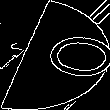O_W: (8, 27, 102, 83)
